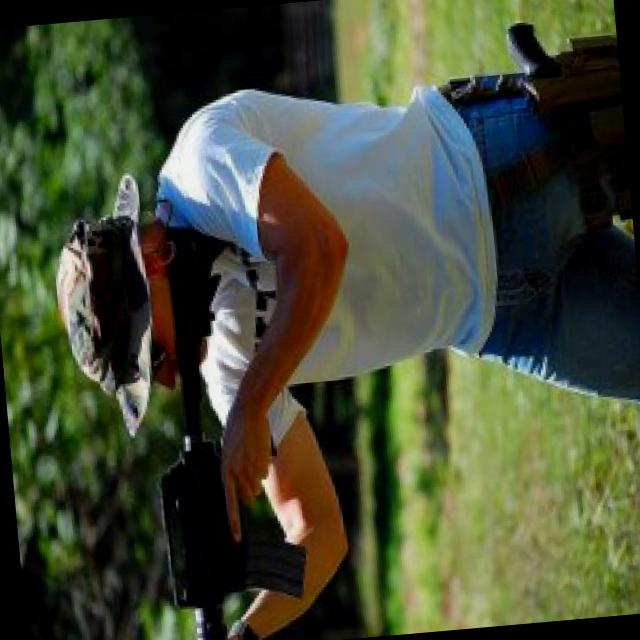long weapon: (127, 197, 327, 639)
